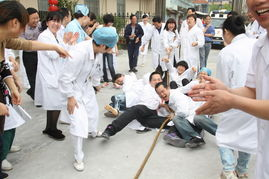10+: (1, 1, 269, 175)
down: (99, 69, 167, 140), (154, 83, 219, 149), (104, 69, 138, 116), (180, 67, 217, 94), (163, 57, 196, 83)
